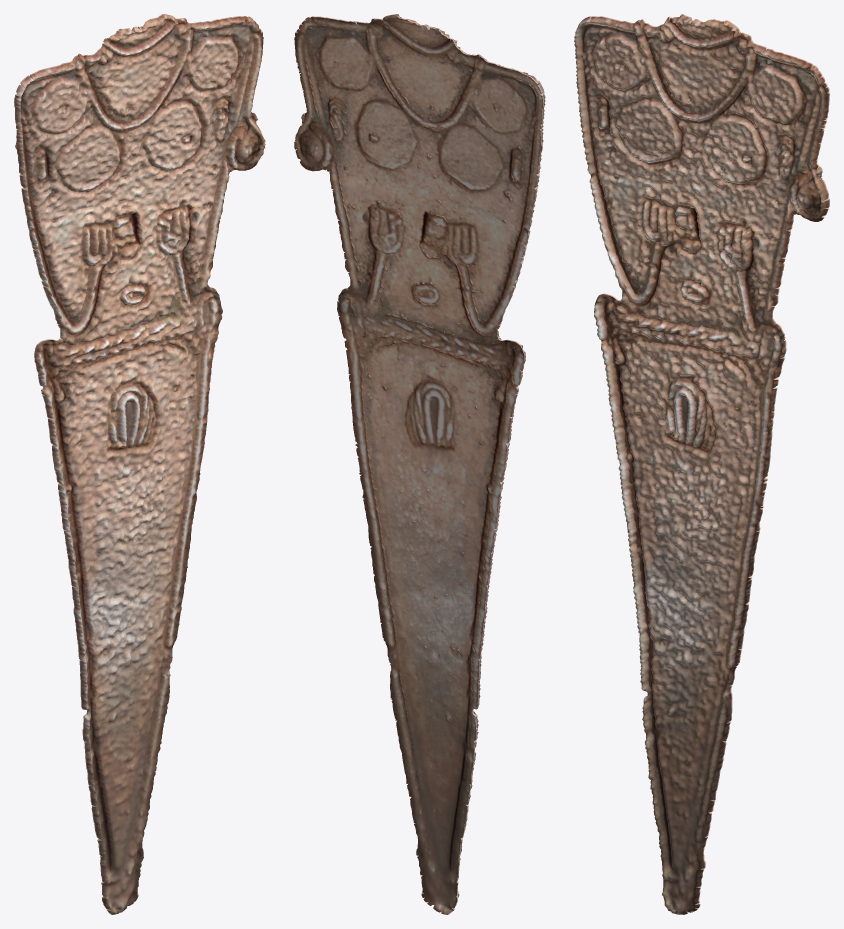
The model's file is 01_tunjo_femenino.glb.
The picture shows the model from 3 angles, left to right: view 1: azimuth 30°, elevation 25°; view 2: azimuth 150°, elevation 25°; view 3: azimuth 330°, elevation 25°; orthographic projection.
Visible parts, largest first — view 1: 01_tunjo_femenino; view 2: 01_tunjo_femenino; view 3: 01_tunjo_femenino.
Part boxes in pixels (left/top/right/bottom): 01_tunjo_femenino: left=14, top=14, right=265, bottom=914; 01_tunjo_femenino: left=294, top=14, right=545, bottom=914; 01_tunjo_femenino: left=574, top=14, right=829, bottom=914.
Size of the model in its own units: 4.91 by 16.74 by 0.2337.
1 material, 1 textured.
